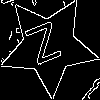Z: (24, 21, 68, 75)
